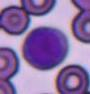M: (22, 27, 68, 70)
